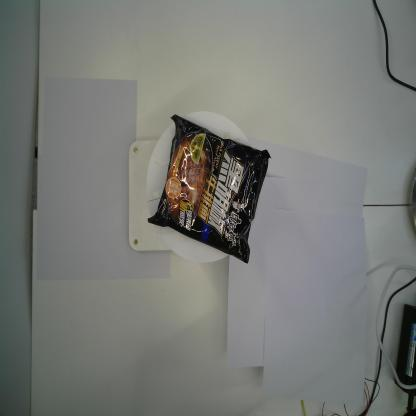Instant Noodles: (148, 114, 271, 263)
